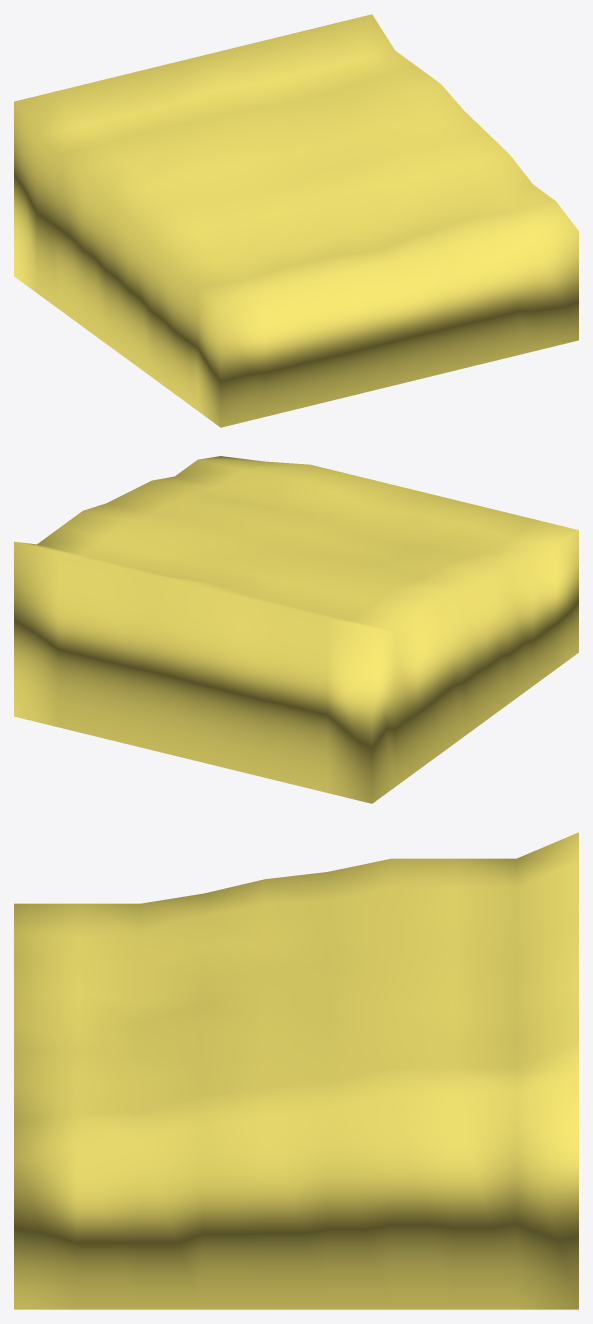
Rendered from beach_new.fbx.
3 views of the same model, one above another, from view 1: azimuth 30°, elevation 25°; view 2: azimuth 150°, elevation 25°; view 3: azimuth 270°, elevation 25° (orthographic). The views are drawn at different scales.
Visible parts, largest first — view 1: Cube; view 2: Cube; view 3: Cube.
Boxes of the visible parts, bbox=[...] form: Cube: bbox=[14, 14, 578, 427]; Cube: bbox=[14, 456, 578, 803]; Cube: bbox=[14, 832, 578, 1309].
Size of the model in its own units: 480 by 224 by 480.
